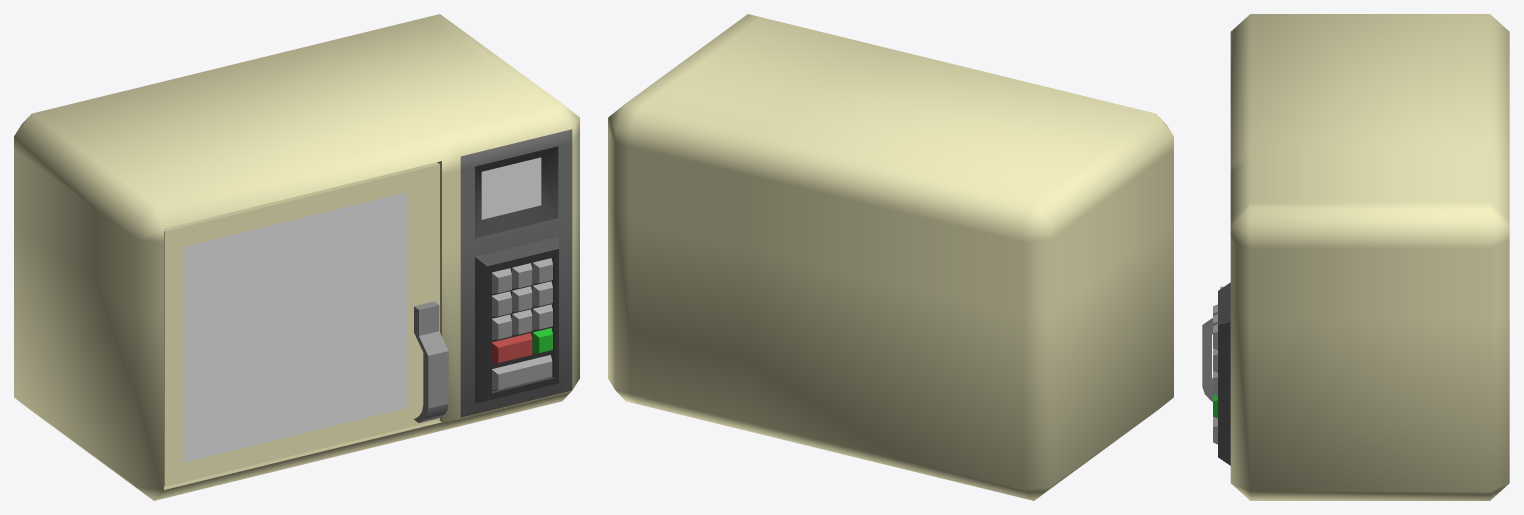
The model's file is Microwave.fbx.
3 views of the same model, side by side, from view 1: azimuth 30°, elevation 25°; view 2: azimuth 150°, elevation 25°; view 3: azimuth 270°, elevation 25° (orthographic). The views are drawn at different scales.
Parts seen in each view (by area): view 1: Microwave, MicrowaveDoor; view 2: Microwave; view 3: Microwave, MicrowaveDoor.
Part boxes in pixels (<box>): Microwave: <box>14,14,579,500</box>; MicrowaveDoor: <box>164,162,448,486</box>; Microwave: <box>608,14,1173,500</box>; Microwave: <box>1213,14,1509,500</box>; MicrowaveDoor: <box>1202,286,1223,401</box>.
Bounding box in the file's own units: 0.7628 × 0.4895 × 0.4678.
